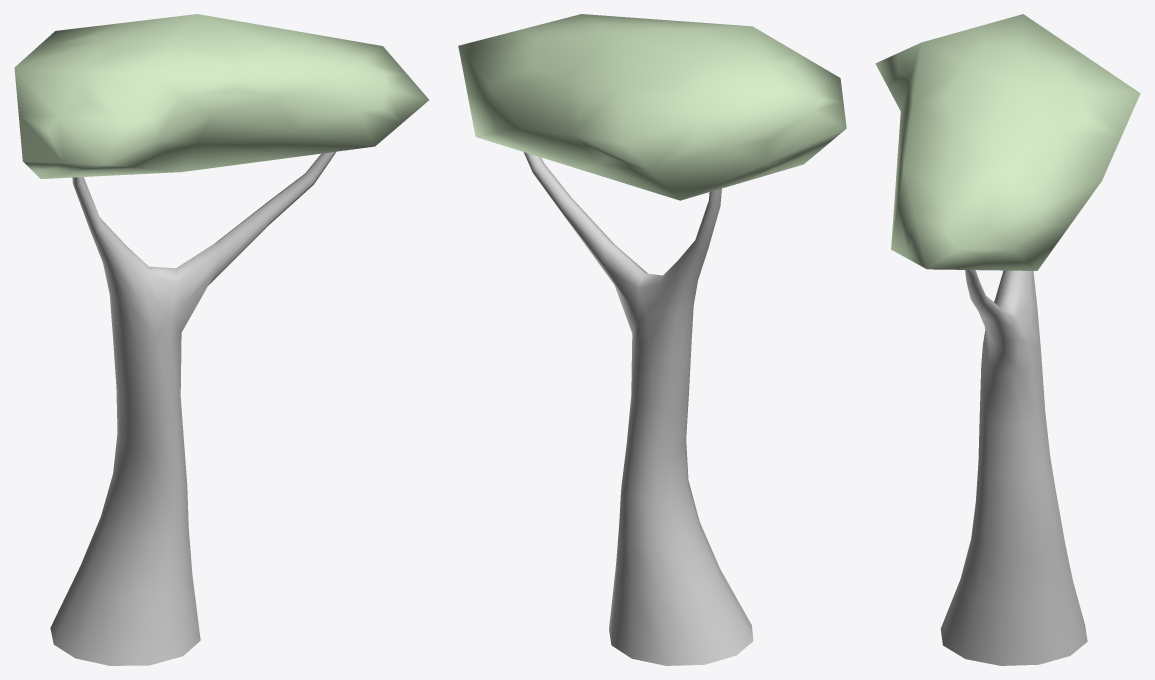
Rendered from stylized-tree-02.fbx.
3 renders of one model, left to right at view 1: azimuth 30°, elevation 25°; view 2: azimuth 150°, elevation 25°; view 3: azimuth 270°, elevation 25°, orthographic. The views are drawn at different scales.
Parts seen in each view (by area): view 1: Tree_02_leaves, Tree_02_bark; view 2: Tree_02_leaves, Tree_02_bark; view 3: Tree_02_leaves, Tree_02_bark.
Part boxes in pixels (left/top/right/bottom): Tree_02_leaves: left=14, top=14, right=428, bottom=178; Tree_02_bark: left=50, top=151, right=335, bottom=665; Tree_02_leaves: left=458, top=14, right=846, bottom=200; Tree_02_bark: left=523, top=152, right=753, bottom=665; Tree_02_leaves: left=875, top=14, right=1140, bottom=270; Tree_02_bark: left=940, top=270, right=1087, bottom=665.
Bounding box in the file's own units: 144 × 209 × 86.19.
